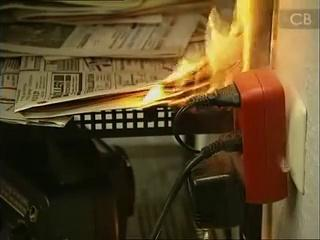Fire: (107, 1, 264, 117)
